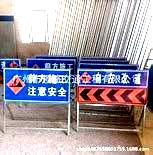sign: (78, 69, 146, 105), (3, 68, 70, 102)
